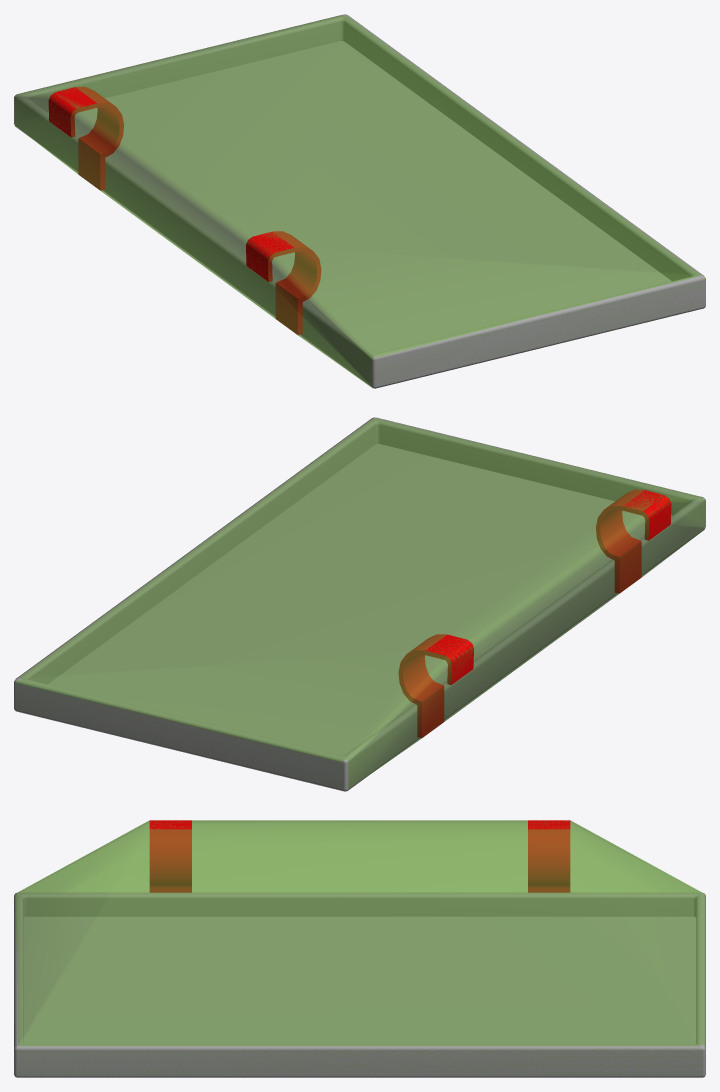
The model's file is M_md_Stall2_attachment_01.fbx.
3 renders of one model, top to bottom at view 1: azimuth 30°, elevation 25°; view 2: azimuth 150°, elevation 25°; view 3: azimuth 270°, elevation 25°, orthographic. The views are drawn at different scales.
Visible parts, largest first — view 1: M_md_Stall2_attachment_01_LOD0, M_md_Stall2_attachment_01_col_01; view 2: M_md_Stall2_attachment_01_LOD0, M_md_Stall2_attachment_01_col_01; view 3: M_md_Stall2_attachment_01_col_01, M_md_Stall2_attachment_01_LOD0.
Part boxes in pixels (<box>): M_md_Stall2_attachment_01_LOD0: <box>14,14,705,388</box>; M_md_Stall2_attachment_01_col_01: <box>14,15,705,387</box>; M_md_Stall2_attachment_01_LOD0: <box>14,417,705,791</box>; M_md_Stall2_attachment_01_col_01: <box>15,418,705,790</box>; M_md_Stall2_attachment_01_col_01: <box>14,820,705,1076</box>; M_md_Stall2_attachment_01_LOD0: <box>14,820,705,1077</box>.
Size of what is drawn, in the model's own units: 48.87 by 11.79 by 82.79.
